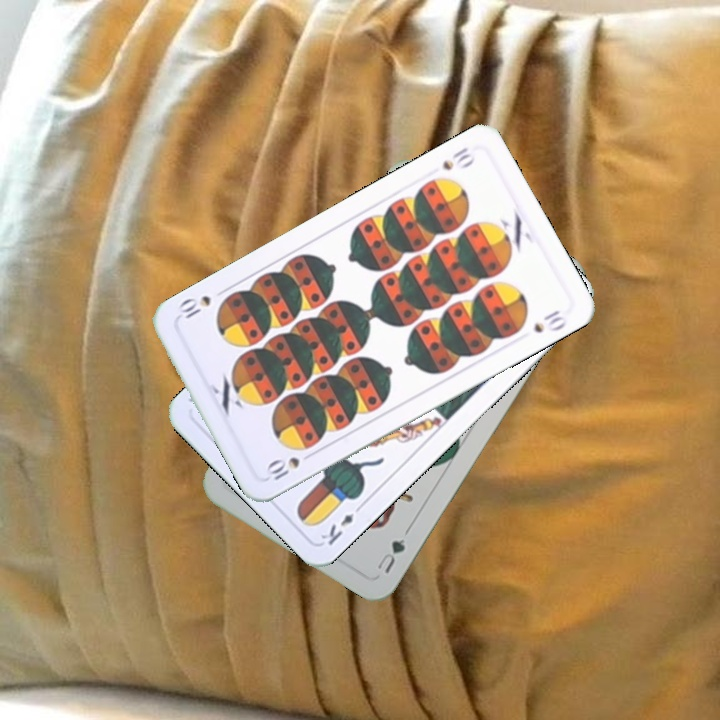EK: (316, 499, 366, 549)
GU: (373, 534, 408, 576)
S10: (261, 453, 303, 483), (438, 143, 478, 173)
